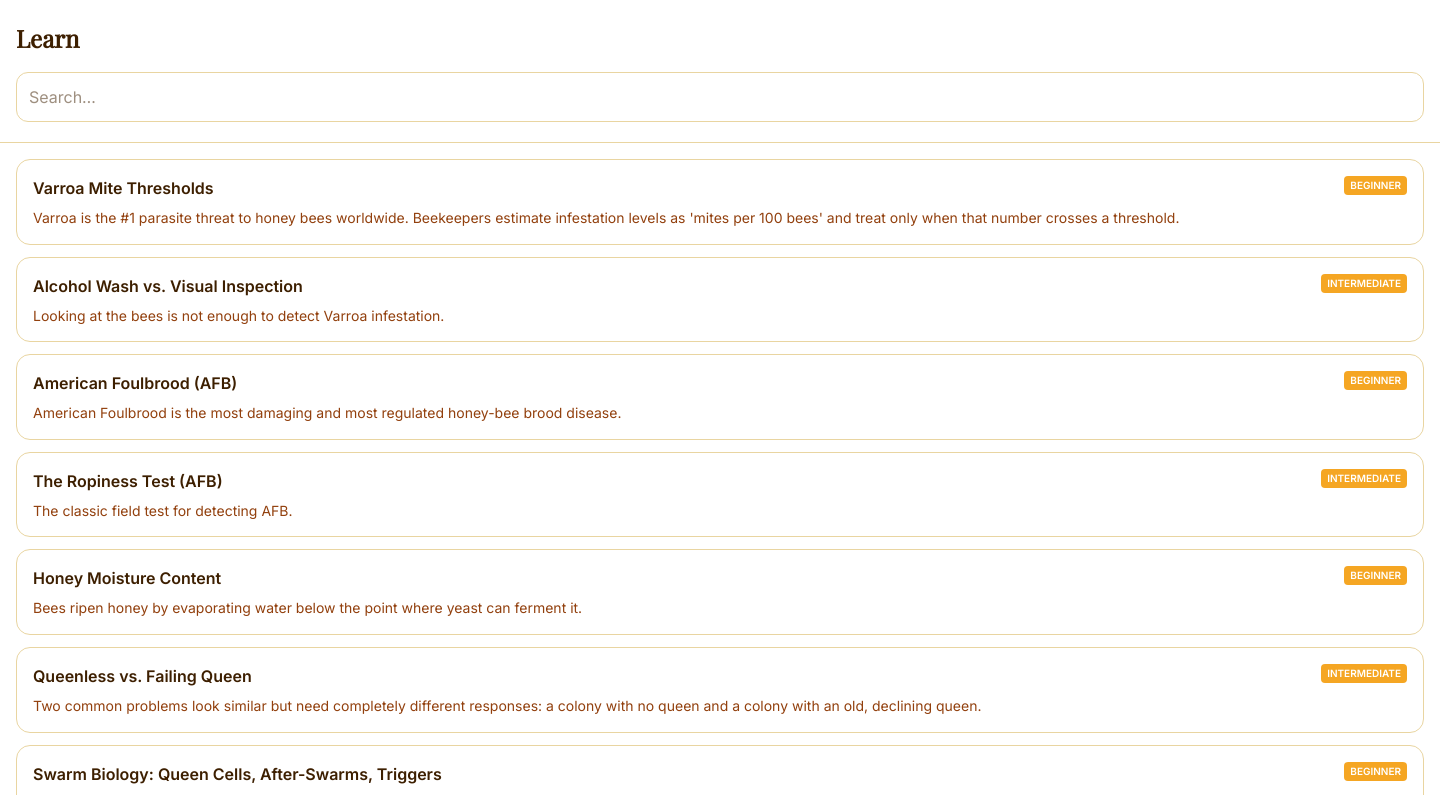
Scenario: LearnScreen › shows the no-results message when nothing matches
The image size is (1440, 795).
In the field with placeholder "Search…": (720, 97) [16,72,1424,122], type "zzz-nonexistent-zzz"
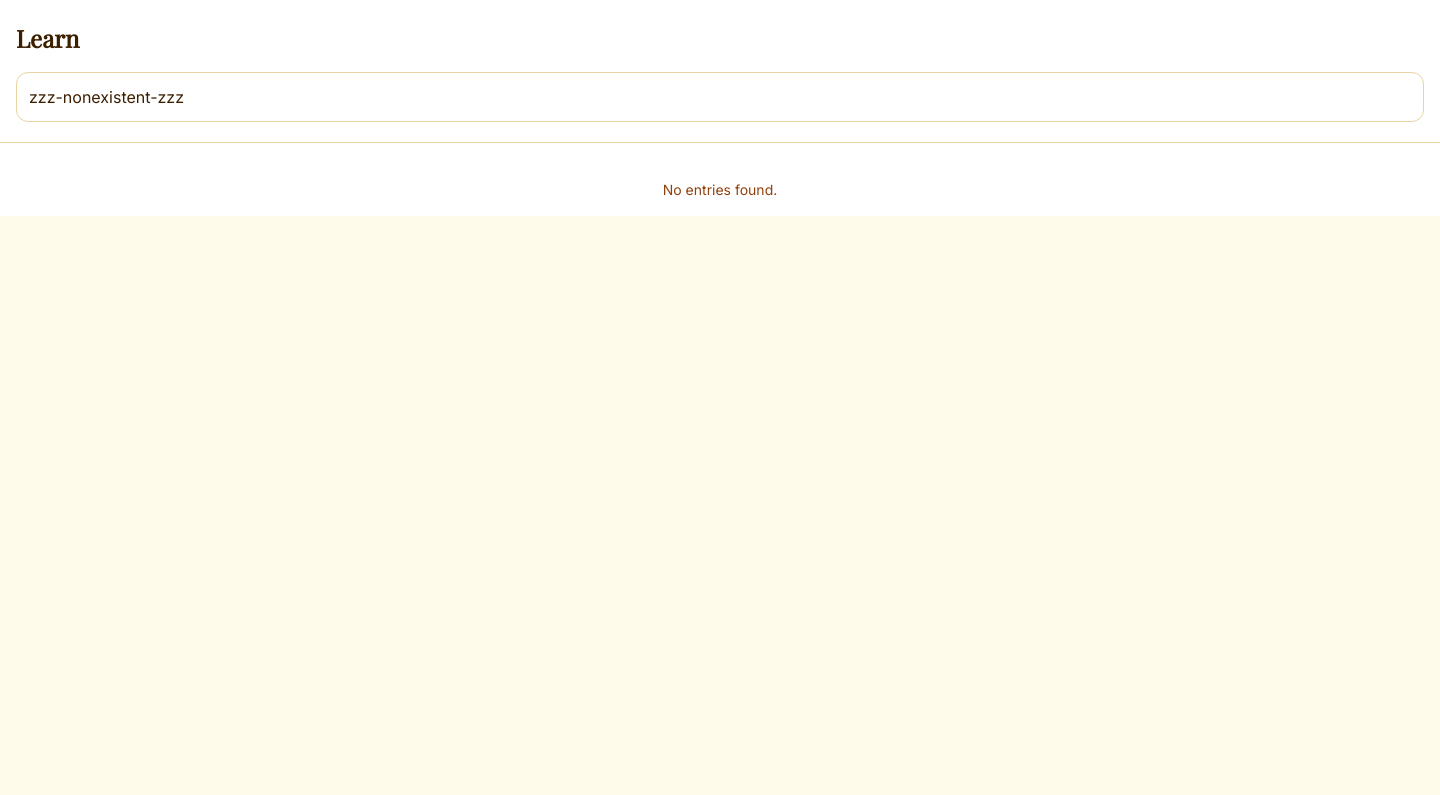
Check: the text "No entries found." is shown, box [663,181,777,198]
